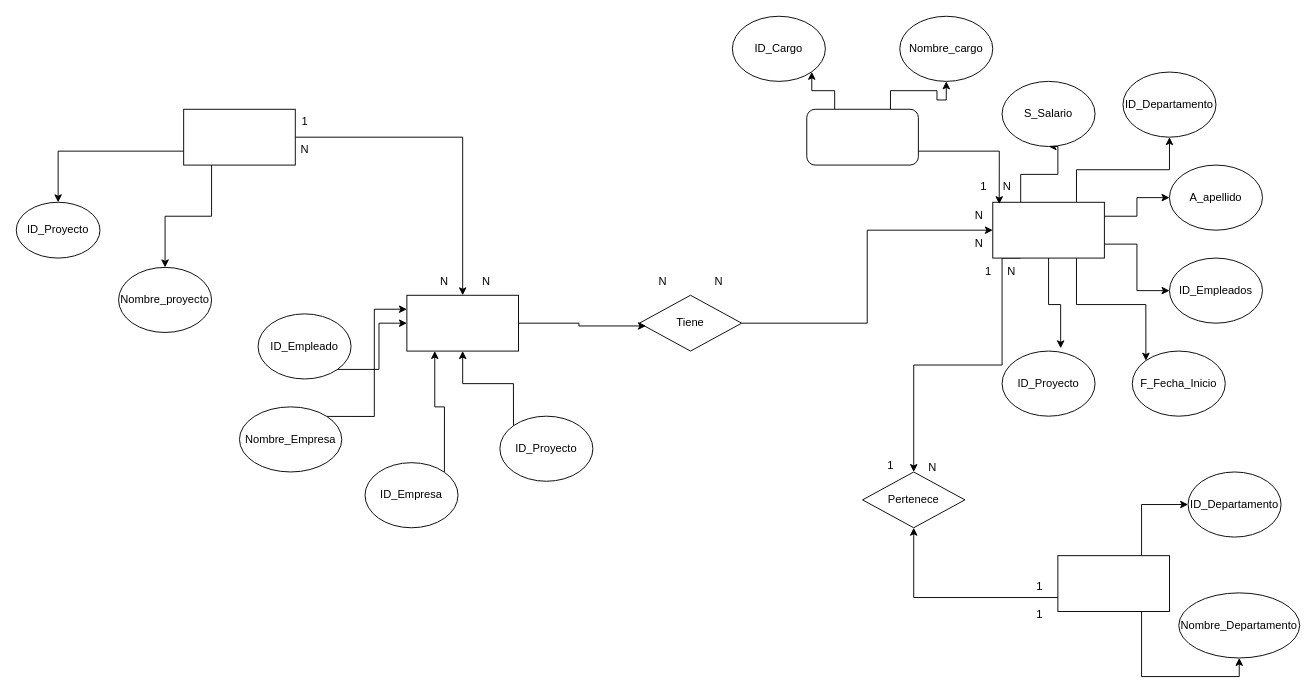
This 1316x700 diagram has some shape labels left out. The shapes that lost their labels are listed below. From the top down, each one's centre as x and y in pixels, then its label:
At point (239, 136): "Proyectos".
At point (862, 136): "Cargos".
At point (1048, 229): "Empleados".
At point (462, 322): "Empresa".
At point (1113, 583): "Departamentos".
